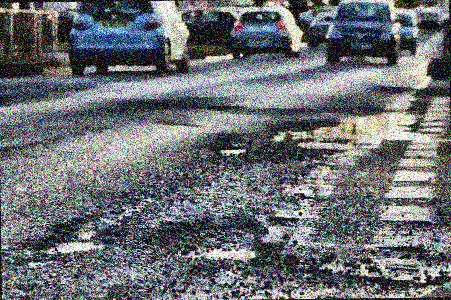pothole: (162, 220, 267, 263), (29, 210, 114, 254), (217, 145, 247, 156)
